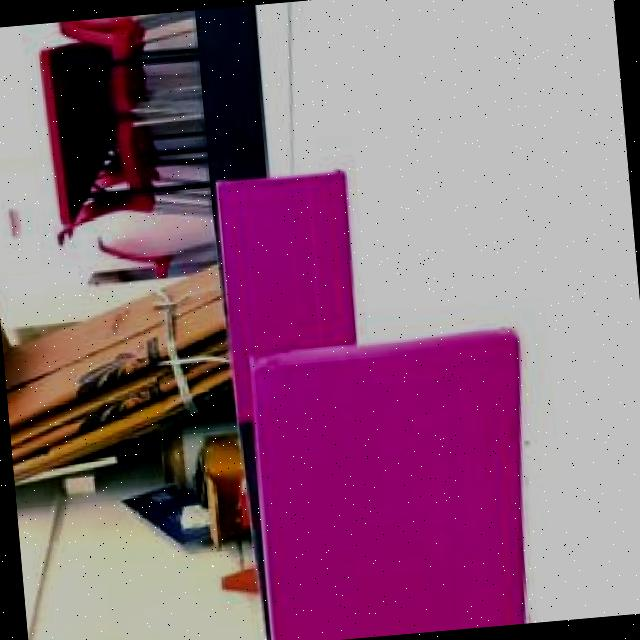xparking: (240, 338, 522, 640), (212, 175, 352, 351)
